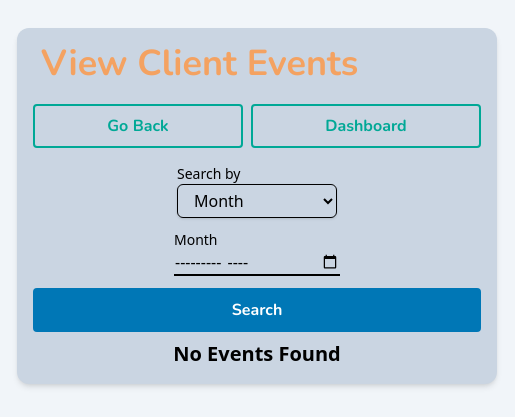
Test: ViewClientEventsListPage › shows validation error if month is empty
What coordinates should you click on to do the following:
click the button "Search"
I would click on:
 (257, 310)
Its box is [33, 288, 481, 332].
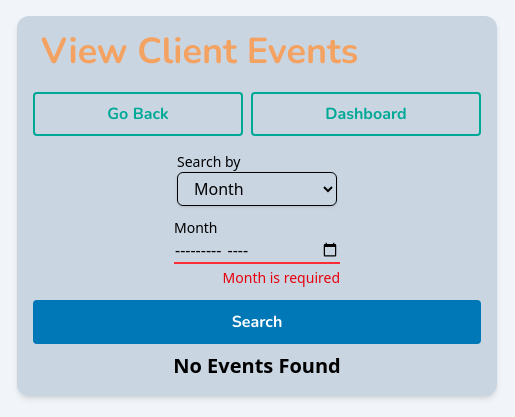
Now the text "Month is required" is shown, box [223, 268, 340, 287]
